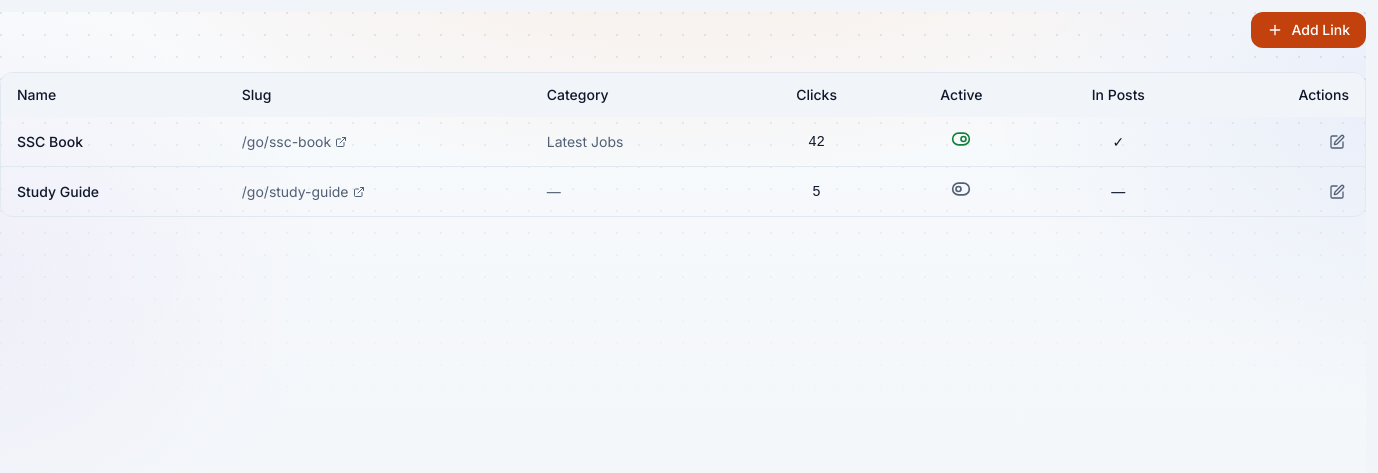
Test: AffiliateLinksManager › shows add form when Add Link button is clicked
Click the button "Add Link".
click(1309, 30)  # box [1251, 12, 1366, 48]
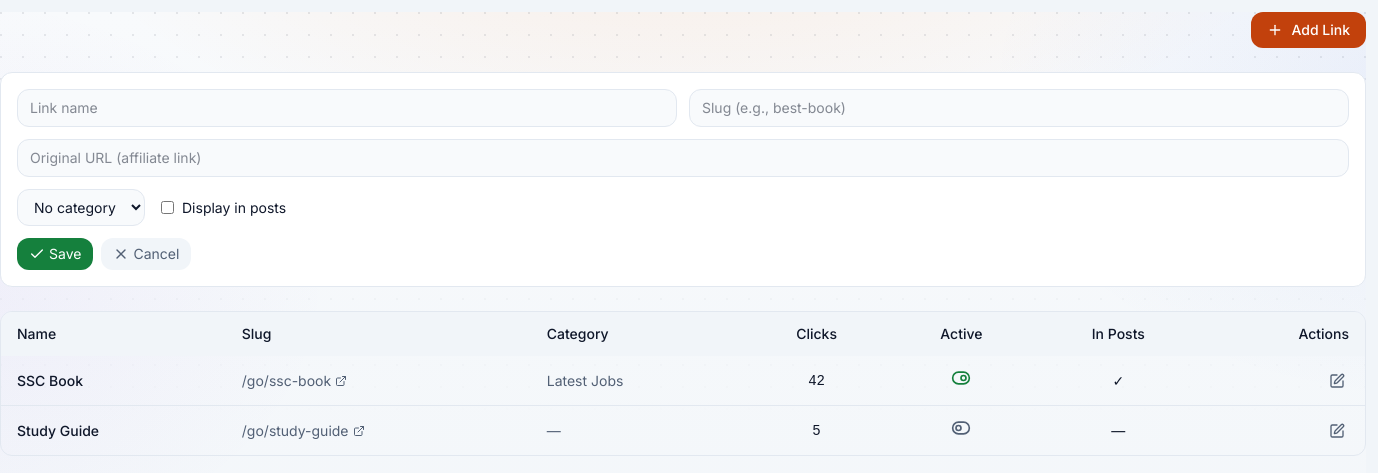
Result: the field with placeholder "Link name" is shown at [17, 89, 677, 127]
Result: the field with placeholder "Original URL (affiliate link)" is shown at [17, 139, 1349, 177]
